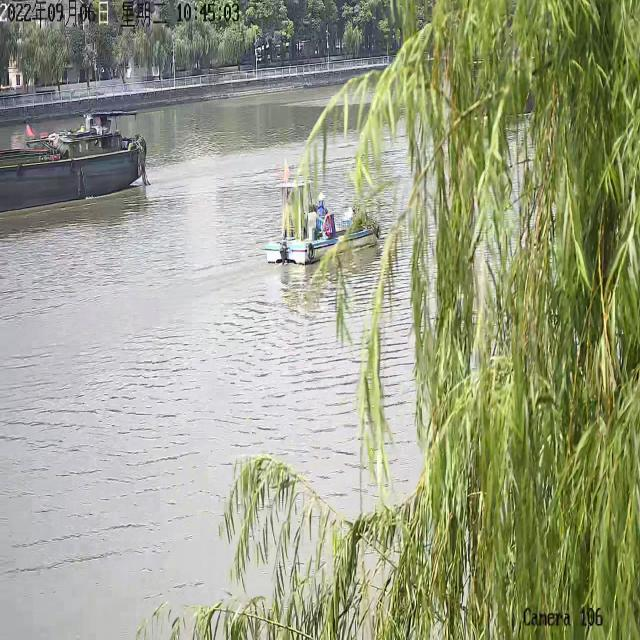ship: (0, 108, 146, 211), (264, 160, 380, 265)
